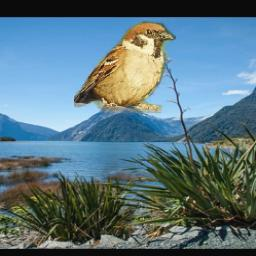Sparrow: (73, 21, 175, 113)
